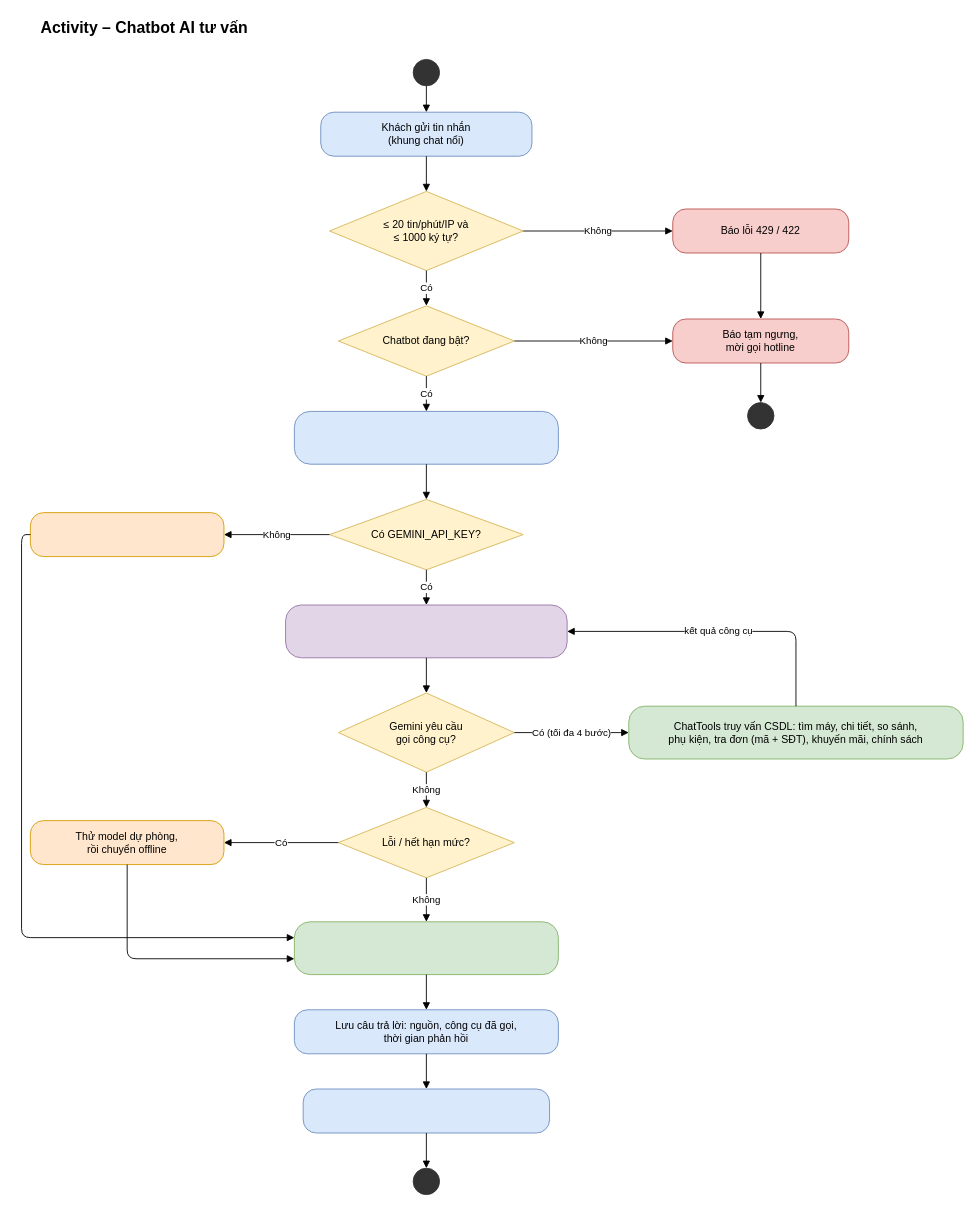
The diagram is 979 pixels wide and 1210 high, and some of its shapes have lost their labels. Here are the shapes that lost their labels. From the top down, the centre of each, then its label:
At point (425, 437): "Lưu tin nhắn; lấy 12 tin gần nhất và tiêu chí đã nhớ (ngân sách, hãng…)".
At point (126, 534): "Trả lời offline theo luật trên dữ liệu thật".
At point (426, 631): "Gửi Gemini: system prompt chống prompt injection + lịch sử + 7 công cụ".
At point (425, 948): "Stream câu trả lời (SSE) + thẻ sản phẩm thêm vào giỏ ngay".
At point (426, 1110): "Khách đánh giá 👍 / 👎 (tùy chọn)".
